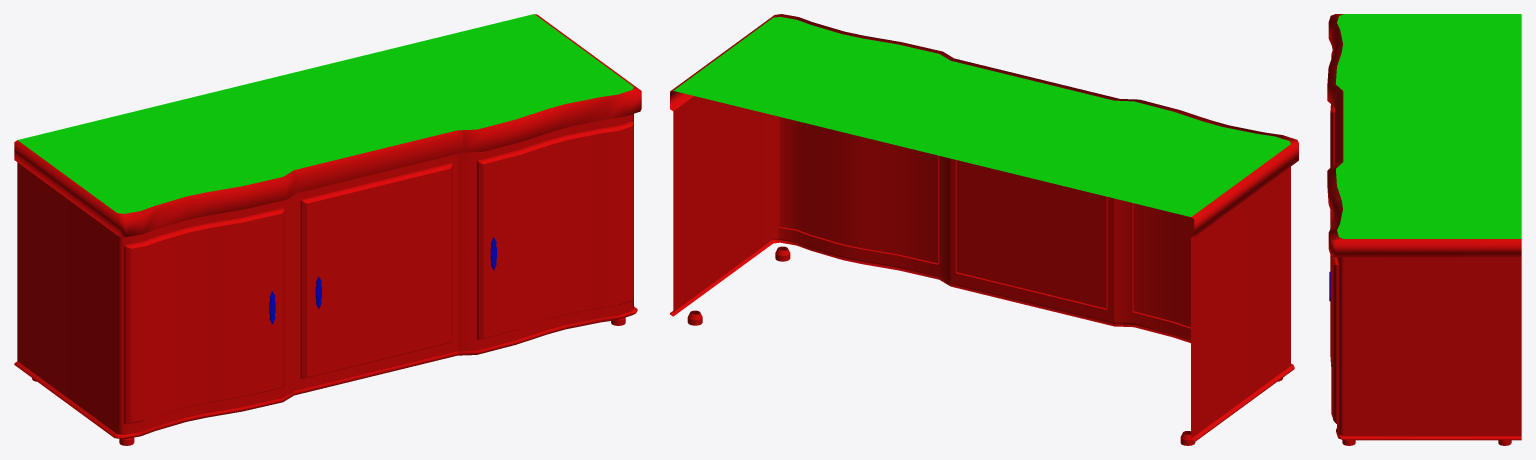
The model's file is SM_Cupboard_001.fbx.
3 views of the same model, side by side, from view 1: azimuth 30°, elevation 25°; view 2: azimuth 150°, elevation 25°; view 3: azimuth 270°, elevation 25° (orthographic). The views are drawn at different scales.
Parts seen in each view (by area): view 1: SM_Cupboard_001; view 2: SM_Cupboard_001; view 3: SM_Cupboard_001.
Part boxes in pixels (box(x1,y1,x2,y2)): SM_Cupboard_001: box(14, 14, 641, 445); SM_Cupboard_001: box(670, 14, 1298, 445); SM_Cupboard_001: box(1327, 14, 1521, 445).
Size of the model in its own units: 199 by 85.6 by 71.9.
